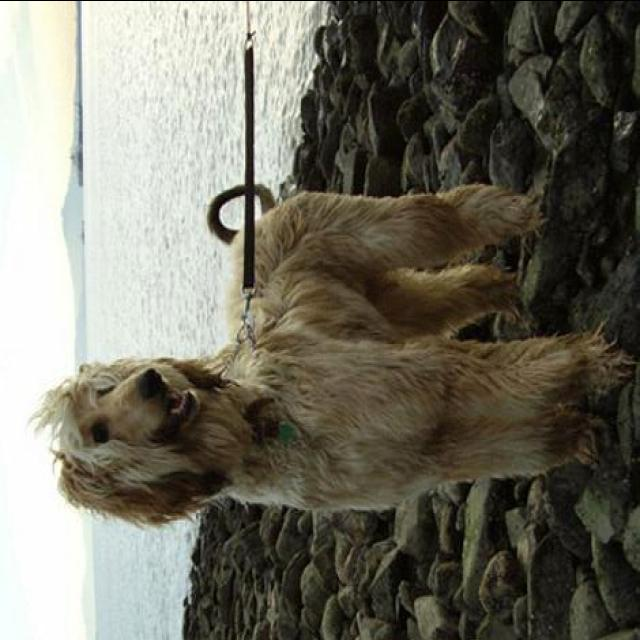afghan_hound: (33, 178, 629, 526)
